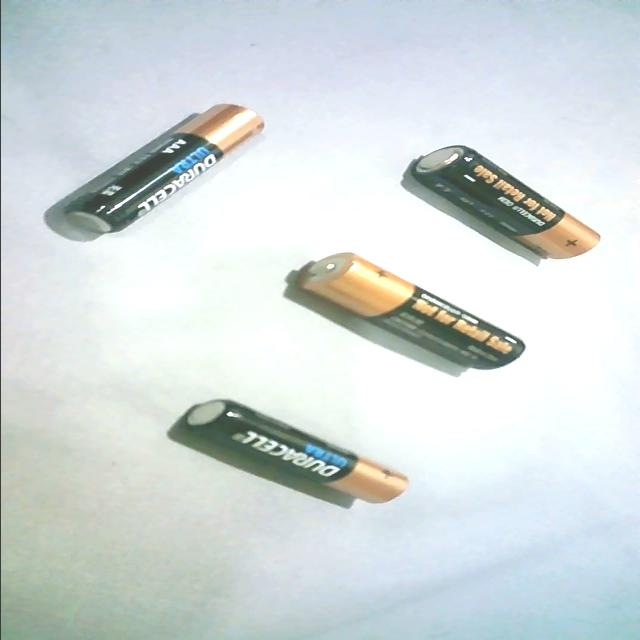AA: (288, 250, 536, 374), (402, 141, 610, 264)
AAA: (49, 101, 274, 239), (173, 394, 417, 508)
